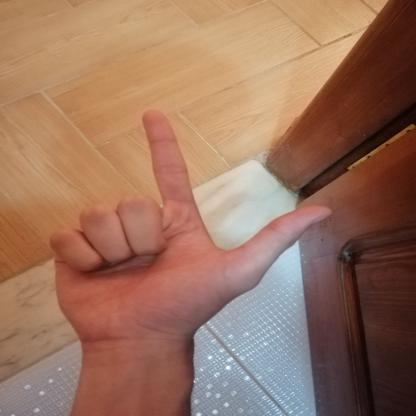LAAM: (33, 98, 348, 358)
